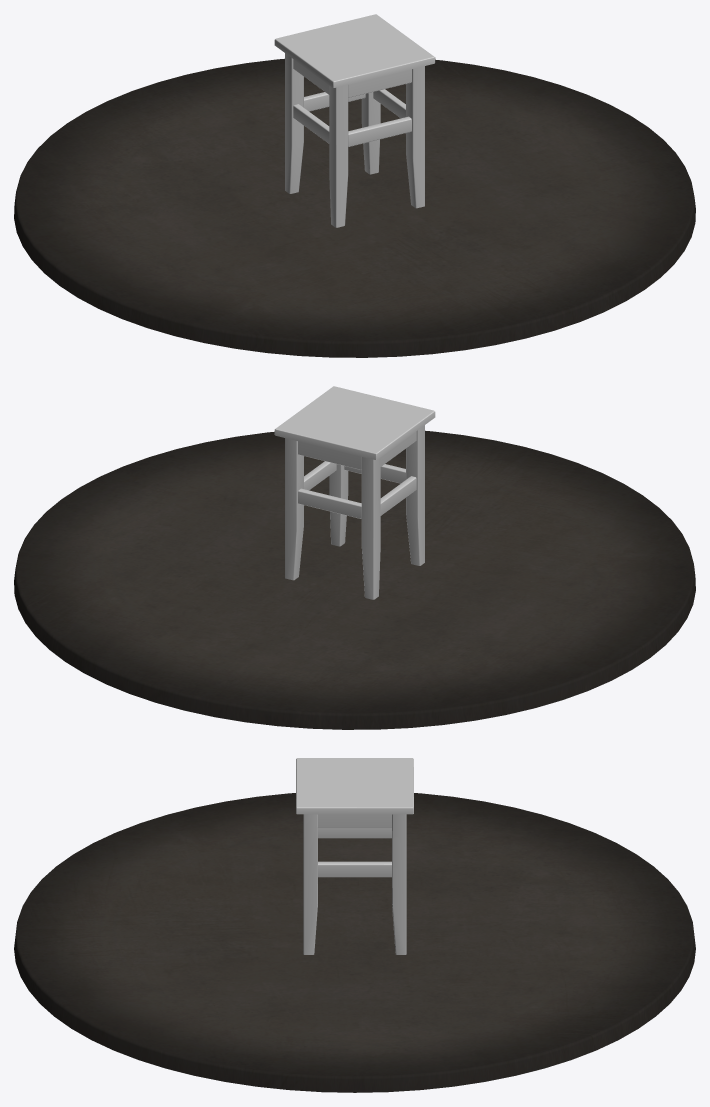
3 renders of one model, top to bottom at view 1: azimuth 30°, elevation 25°; view 2: azimuth 150°, elevation 25°; view 3: azimuth 270°, elevation 25°, orthographic.
Visible parts, largest first — view 1: circle001_concrete_0, stool_stool_0; view 2: circle001_concrete_0, stool_stool_0; view 3: circle001_concrete_0, stool_stool_0.
Boxes of the visible parts, box(x1,y1,x2,y2) form: circle001_concrete_0: box(14, 58, 695, 357); stool_stool_0: box(274, 14, 435, 227); circle001_concrete_0: box(14, 430, 695, 729); stool_stool_0: box(274, 386, 435, 599); circle001_concrete_0: box(14, 793, 695, 1092); stool_stool_0: box(296, 758, 413, 954).
Size of the model in its own units: 203 by 54.61 by 203.
